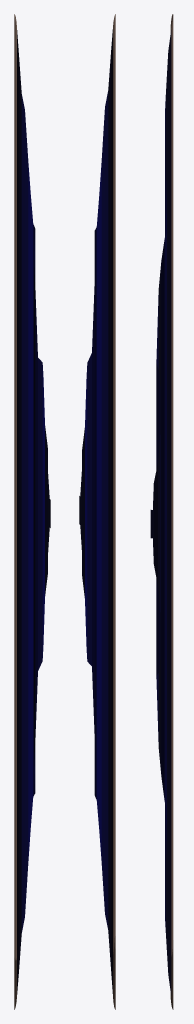
File: blue_flag_222x02.gltf
The picture shows the model from 3 angles, left to right: view 1: azimuth 30°, elevation 25°; view 2: azimuth 210°, elevation 25°; view 3: azimuth 270°, elevation 25°; orthographic projection.
Parts seen in each view (by area): view 1: blue_flag_222x02; view 2: blue_flag_222x02; view 3: blue_flag_222x02.
Part boxes in pixels (x1,y1,x2,y2): blue_flag_222x02: [14, 14, 50, 1009]; blue_flag_222x02: [79, 14, 115, 1009]; blue_flag_222x02: [150, 14, 173, 1009].
Bounding box in the file's own units: 0.0544 × 1.97 × 0.0402.
1 material, 1 textured.
